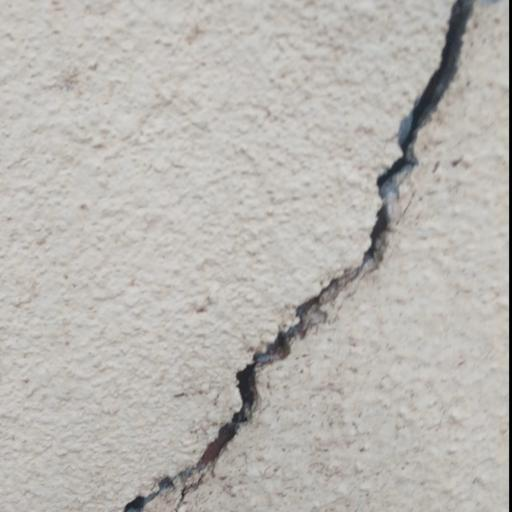major_crack: (109, 0, 487, 504)
